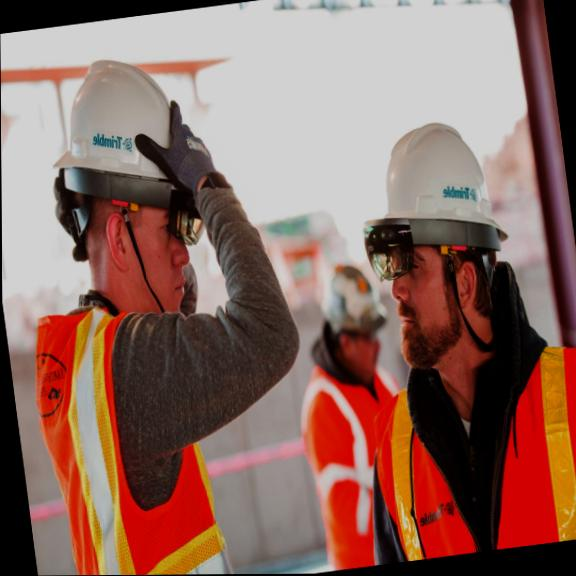safety_vest: (23, 287, 234, 576), (363, 343, 576, 563), (291, 350, 426, 573)
